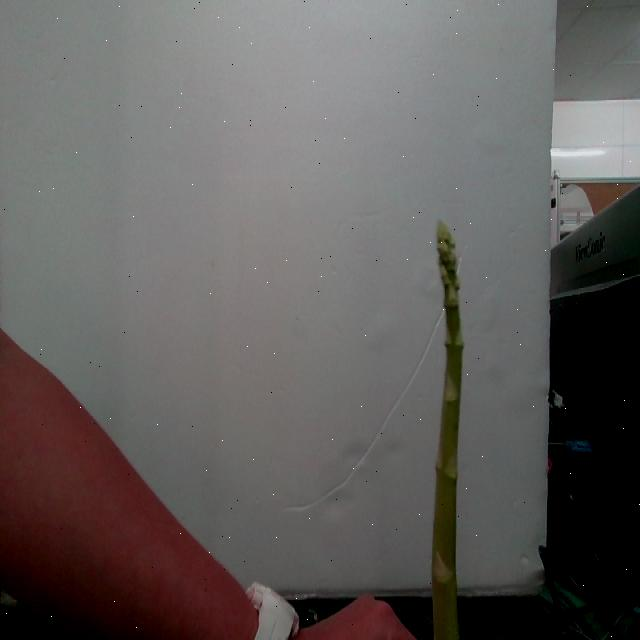aspargus: (430, 224, 463, 640)
